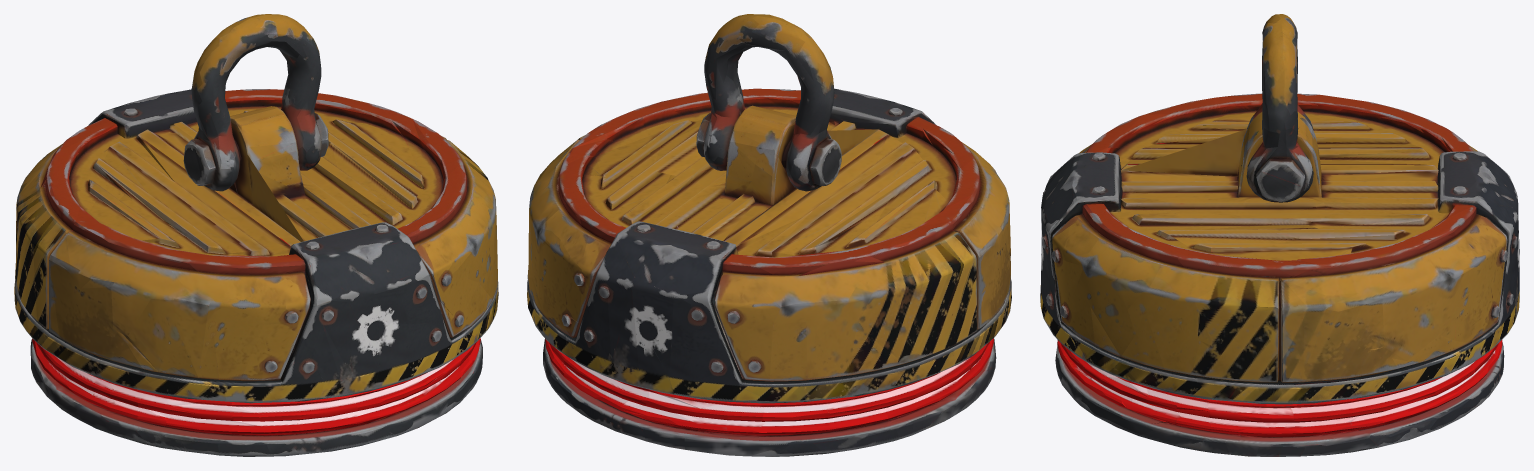
The model's file is crane_magnet.glb.
3 views of the same model, side by side, from view 1: azimuth 30°, elevation 25°; view 2: azimuth 150°, elevation 25°; view 3: azimuth 270°, elevation 25° (orthographic).
Visible parts, largest first — view 1: magnet; view 2: magnet; view 3: magnet.
Part boxes in pixels (x1=…): magnet: x1=14, y1=14, x2=498, y2=456; magnet: x1=527, y1=14, x2=1011, y2=456; magnet: x1=1040, y1=14, x2=1519, y2=456.
Bounding box in the file's own units: 2.5 × 1.97 × 2.5.
Materials: 1 (1 with a texture image).
